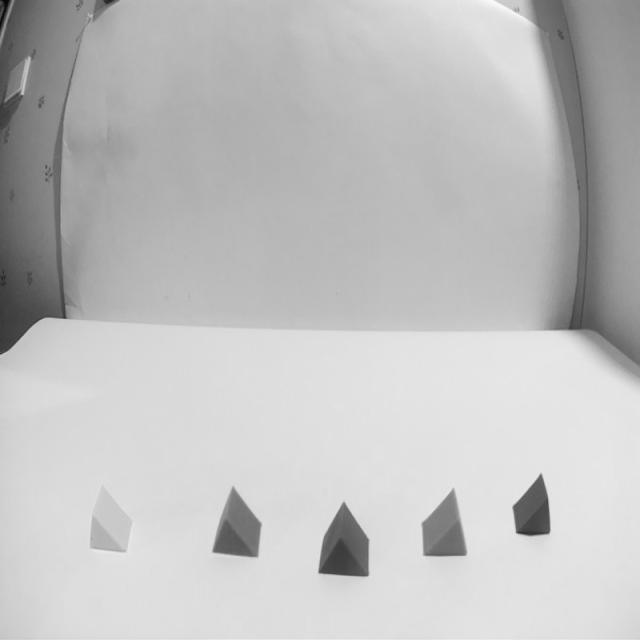triangle: (317, 503, 369, 577), (212, 486, 262, 558), (88, 485, 134, 555), (420, 490, 467, 557), (512, 474, 550, 536)
